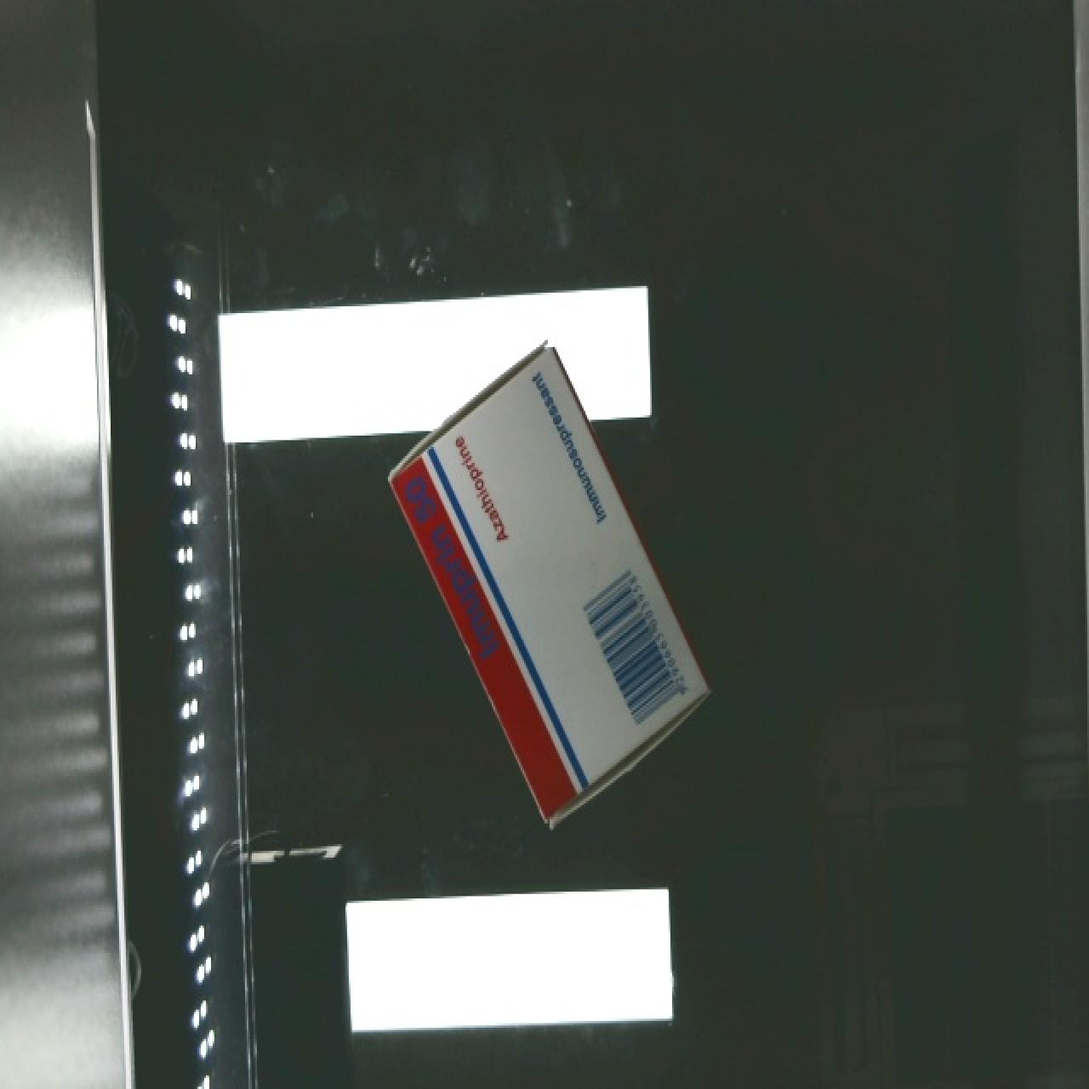medicine_label_obb: (384, 447, 531, 677)
